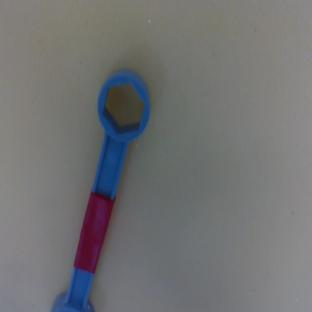part_3_good: (39, 63, 160, 312)
